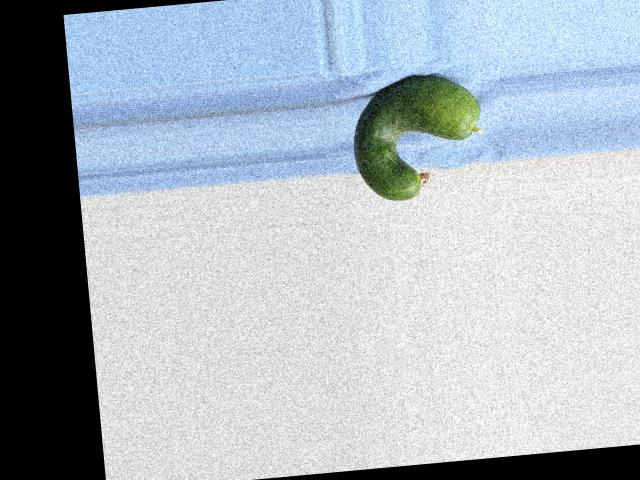cucumber: (347, 70, 488, 204)
